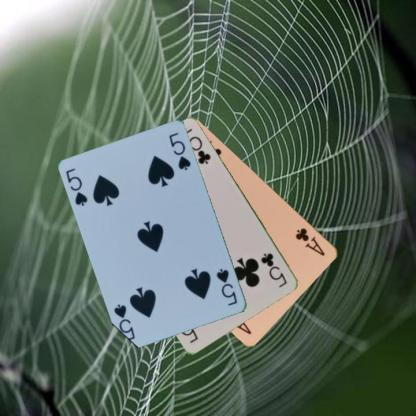5c: (258, 250, 289, 289)
5s: (63, 166, 90, 207), (214, 266, 239, 307)
Ac: (293, 225, 326, 257)
